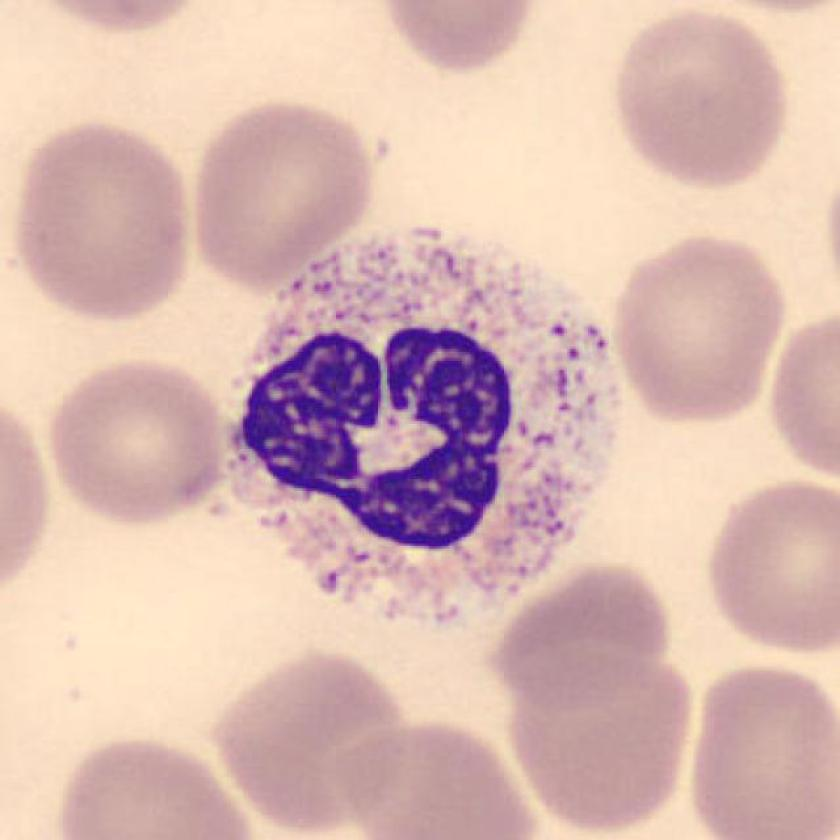neutrophil: (223, 224, 623, 630)
